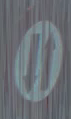Two way: (10, 8, 63, 98)
